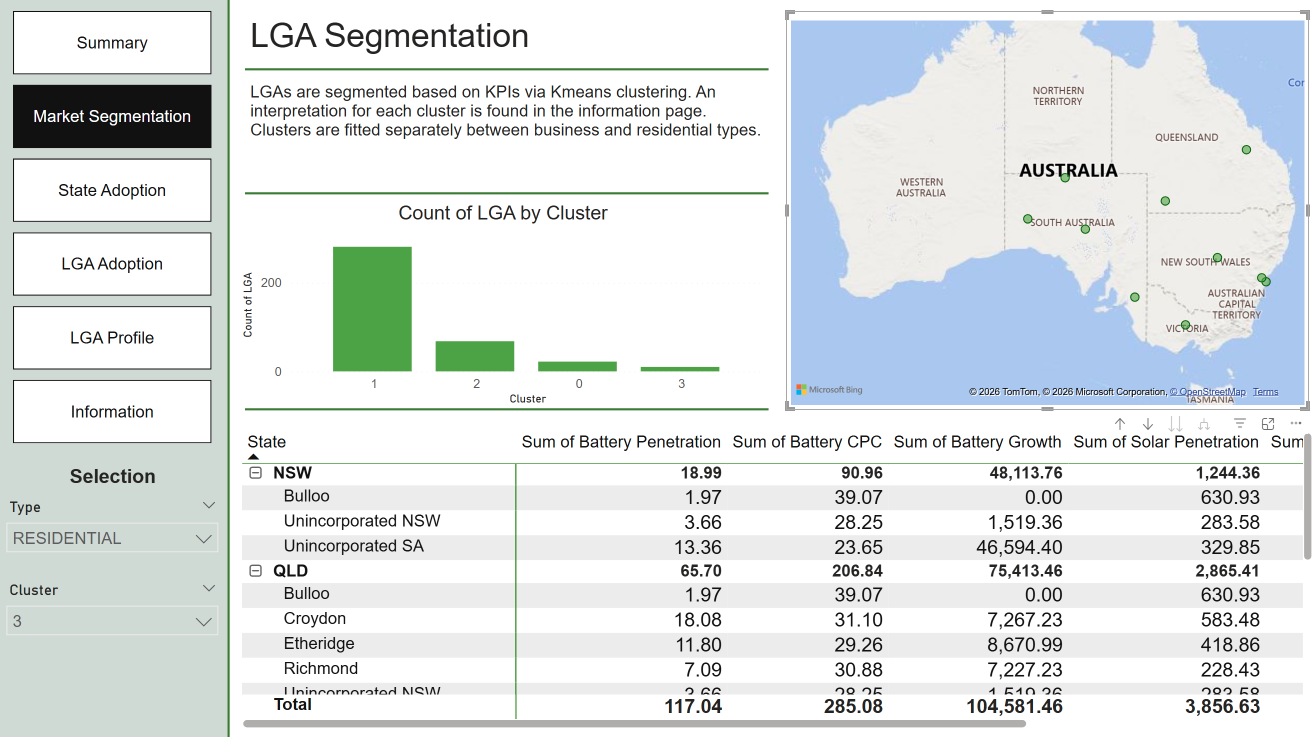

What the dashboard file says about the page in this screenshot:
{"tool":"powerbi","page":{"name":"Market Segmentation","canvas":[1280,720],"ordinal":1},"visuals":[{"type":"pivotTable","fields":{"Rows":["Dim_Region.State","Dim_Region.Region"],"Values":["Sum(Metrics.Battery Penetration)","Sum(Metrics.Battery CPC)","Sum(Metrics.Battery Growth)","Sum(Metrics.Solar Penetration)","Sum(Metrics.Solar CPC)","Sum(Metrics.Solar Growth)"]},"box":[232,416,1040,296],"z":0},{"type":"map","fields":{"Category":["Dim_Region.Country","Dim_Region.Region"]},"box":[760,16,504,384],"z":1000},{"type":"shape","box":[0,0,224,720],"z":2000},{"type":"slicer","fields":{"Values":["Metrics.Cluster"]},"box":[0,560,224,80],"z":3000},{"type":"slicer","fields":{"Values":["Metrics.Type"]},"box":[0,480,224,80],"z":4000},{"type":"pageNavigator","box":[16,16,192,416],"z":5000},{"type":"shape","box":[208,0,32,720],"z":6000},{"type":"textbox","box":[16,448,192,32],"z":7000},{"type":"textbox","box":[240,16,352,64],"z":8000},{"type":"shape","box":[240,64,504,16],"z":9000},{"type":"columnChart","fields":{"Category":["Metrics.Cluster"],"Y":["Count(Metrics.LGA)"]},"box":[232,200,512,200],"z":11000},{"type":"shape","box":[240,184,504,16],"z":12000},{"type":"shape","box":[240,392,504,16],"z":13000},{"type":"textbox","box":[240,80,504,104],"z":14000}]}

Visuals, with their boxes in screenshot pixels (x1, y1, x2, y2), scaled from the page's 1280x720 canvas onto the 1312x737 screenshot:
pivotTable - Dim_Region.State x Dim_Region.Region: x1=238, y1=426, x2=1304, y2=729
map - Dim_Region.Country x Dim_Region.Region: x1=779, y1=16, x2=1296, y2=409
shape: x1=0, y1=0, x2=230, y2=736
slicer - Metrics.Cluster: x1=0, y1=573, x2=230, y2=655
slicer - Metrics.Type: x1=0, y1=491, x2=230, y2=573
pageNavigator: x1=16, y1=16, x2=213, y2=442
shape: x1=213, y1=0, x2=246, y2=736
textbox: x1=16, y1=459, x2=213, y2=491
textbox: x1=246, y1=16, x2=607, y2=82
shape: x1=246, y1=66, x2=763, y2=82
columnChart - Metrics.Cluster x Count(Metrics.LGA): x1=238, y1=205, x2=763, y2=409
shape: x1=246, y1=188, x2=763, y2=205
shape: x1=246, y1=401, x2=763, y2=418
textbox: x1=246, y1=82, x2=763, y2=188
